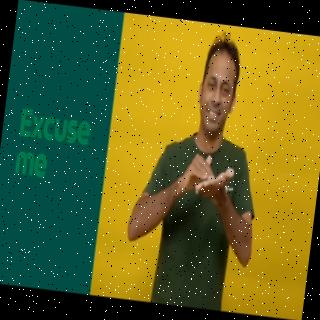ExcuseMe: (120, 28, 278, 312)
